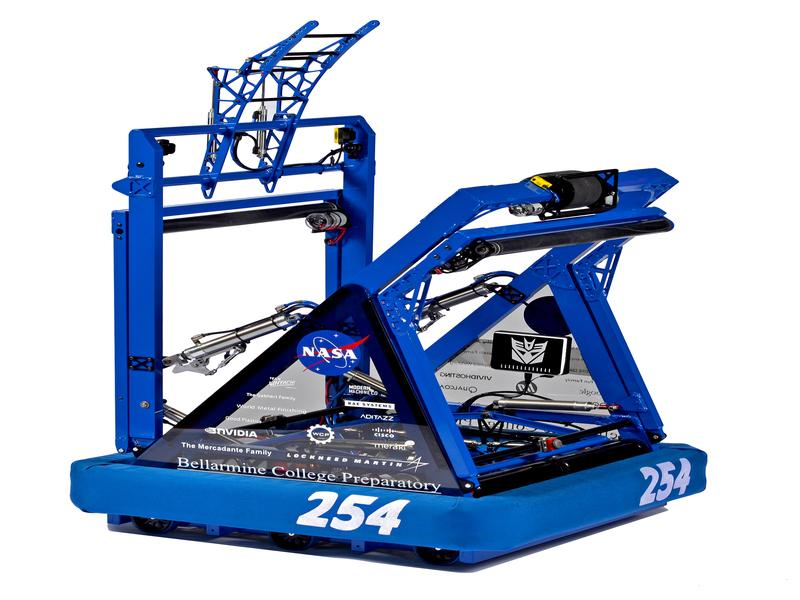robot: (69, 19, 708, 570)
